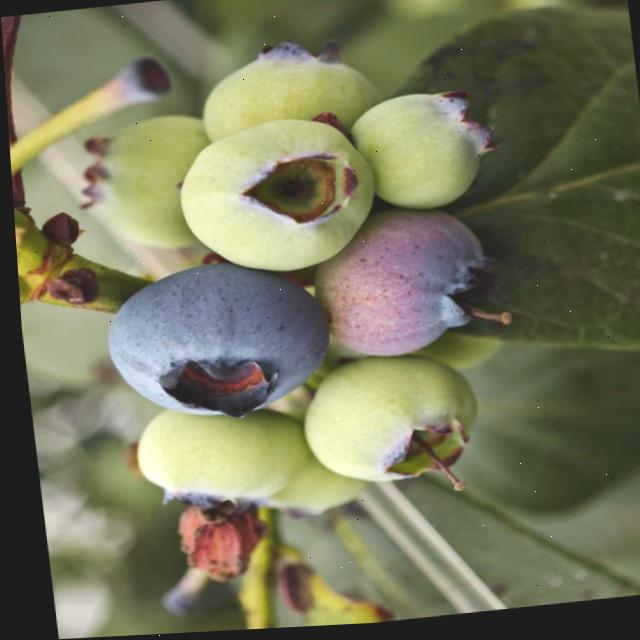RipeBlueBerry: (93, 256, 333, 432)
Semi-RipeBlueBerry: (303, 207, 498, 367)
UnripeBlueBerry: (166, 112, 382, 287), (288, 352, 478, 495), (123, 398, 304, 518), (193, 44, 380, 144), (347, 94, 493, 221), (85, 113, 210, 260)
